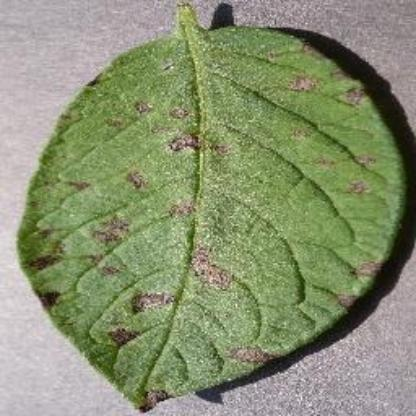Early-Blight: (15, 0, 416, 412)
